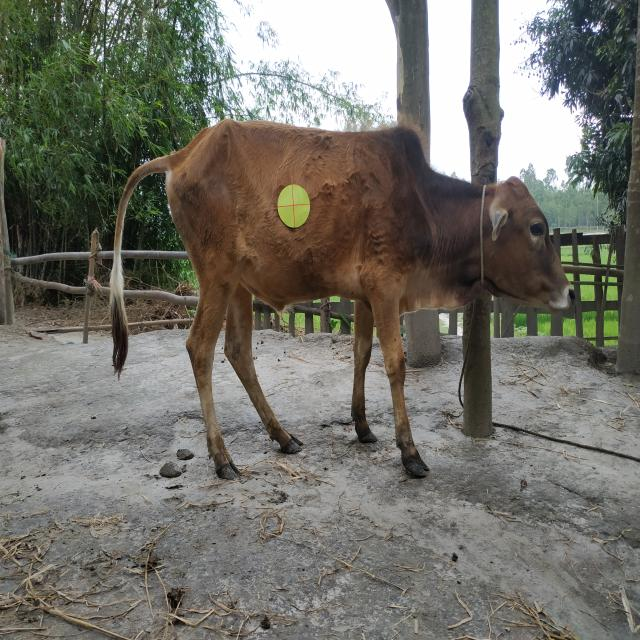badan_sapi: (171, 132, 418, 306)
sapi: (96, 112, 588, 498)
